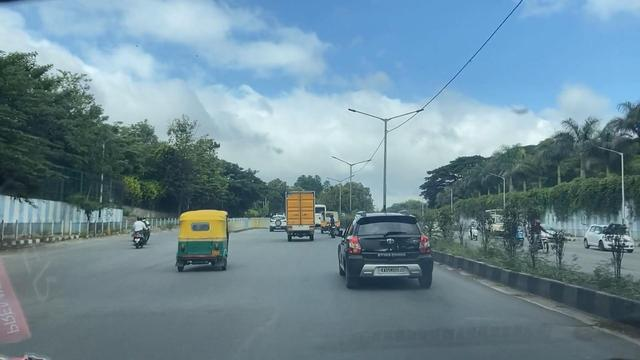HMV: (287, 191, 319, 240)
LMV: (341, 210, 439, 296), (180, 212, 230, 267)
